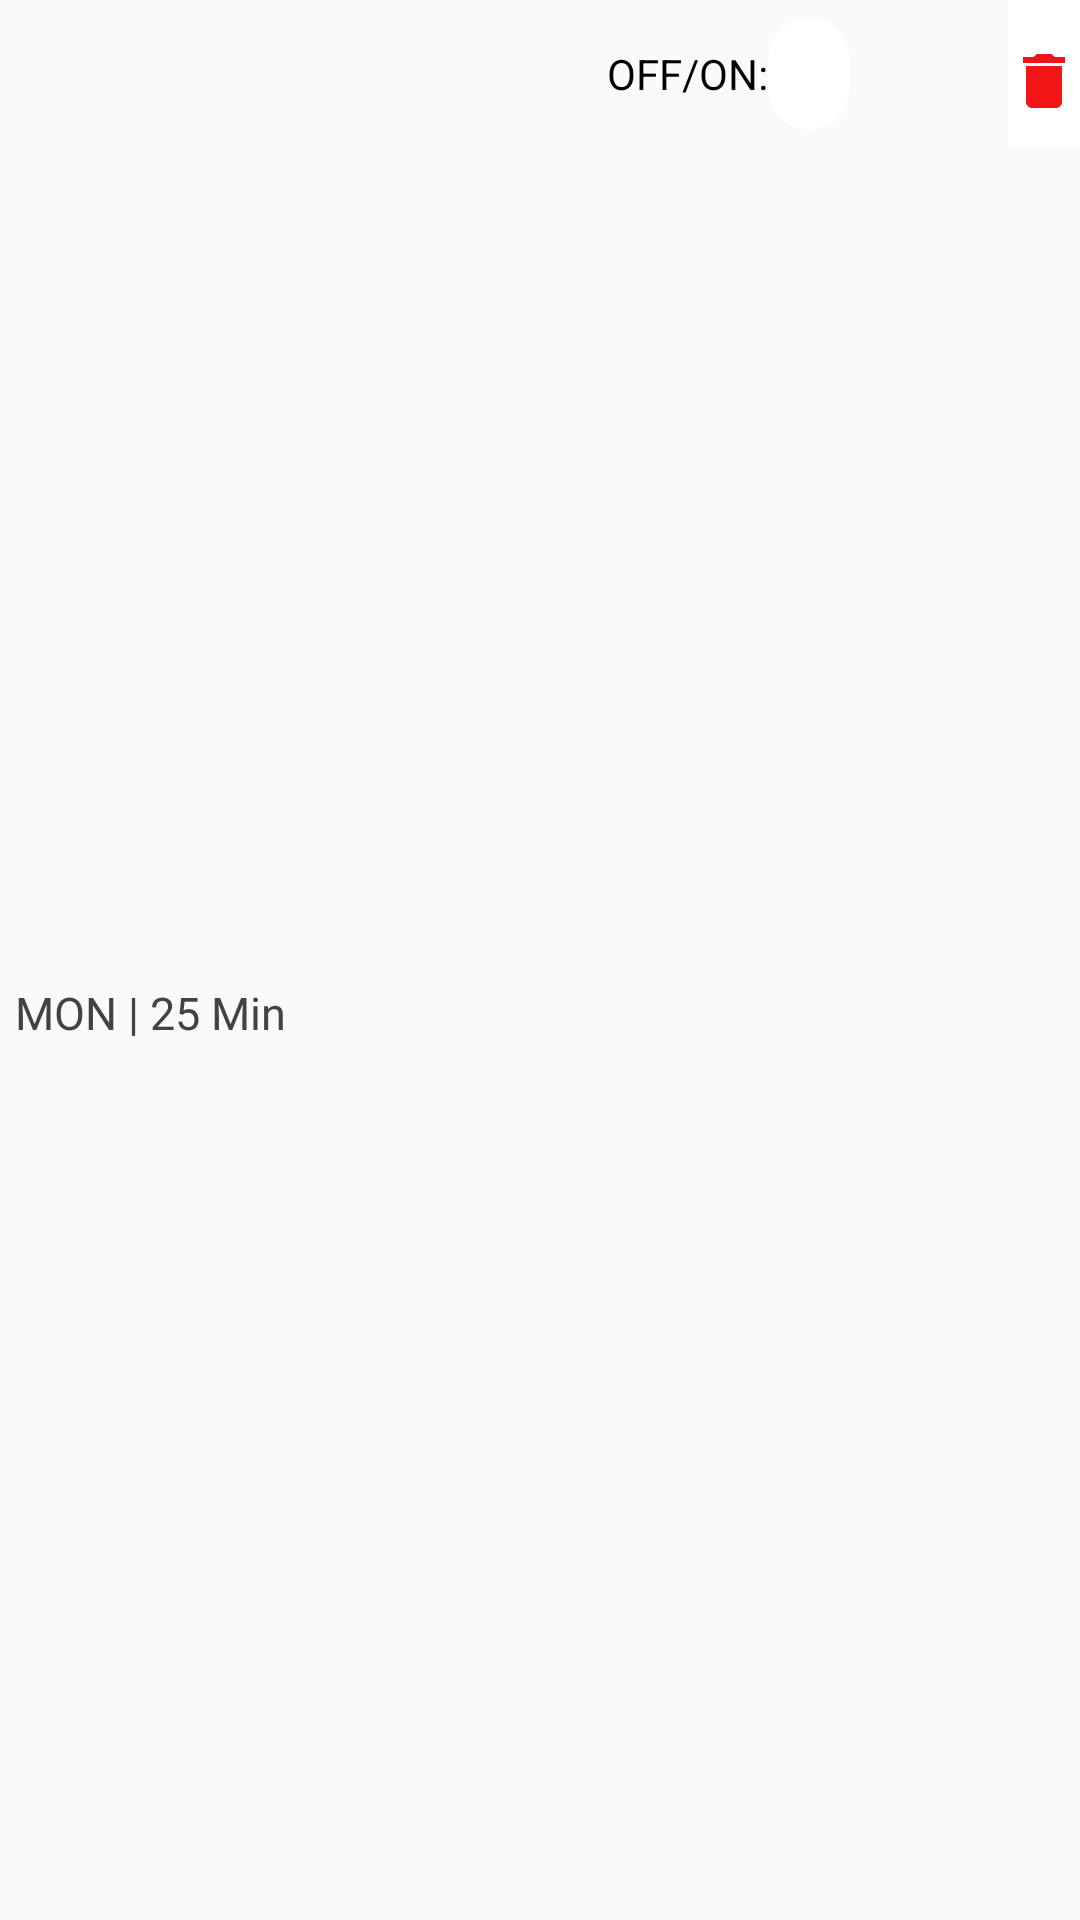

Named icons in this screenshot (1080×1920) and their centers, [x,y]:
delete: [1044,81]
